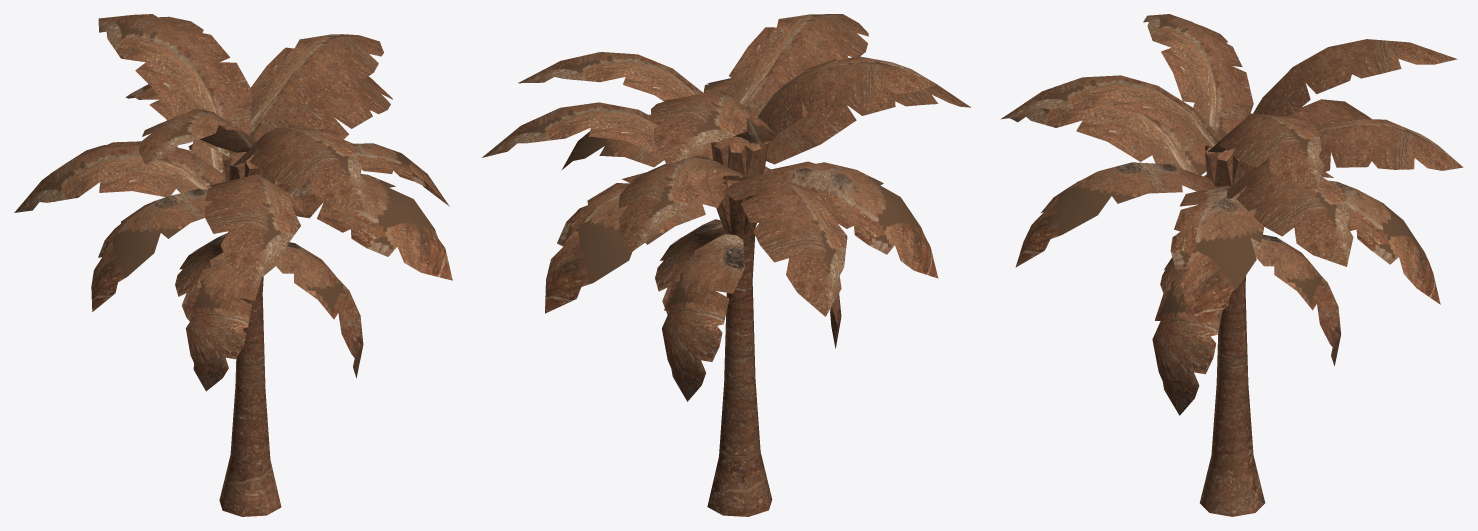
File: coconut-tree.obj
The picture shows the model from 3 angles, left to right: view 1: azimuth 30°, elevation 25°; view 2: azimuth 150°, elevation 25°; view 3: azimuth 270°, elevation 25°; orthographic projection. The views are drawn at different scales.
Visible parts, largest first — view 1: coconut_tree_coconut_tree_mat_0; view 2: coconut_tree_coconut_tree_mat_0; view 3: coconut_tree_coconut_tree_mat_0.
Boxes of the visible parts, <box> form: coconut_tree_coconut_tree_mat_0: <box>14,14,452,516</box>; coconut_tree_coconut_tree_mat_0: <box>482,14,970,516</box>; coconut_tree_coconut_tree_mat_0: <box>1001,14,1463,516</box>.
Bounding box in the file's own units: 4.35 × 5.01 × 4.69.
